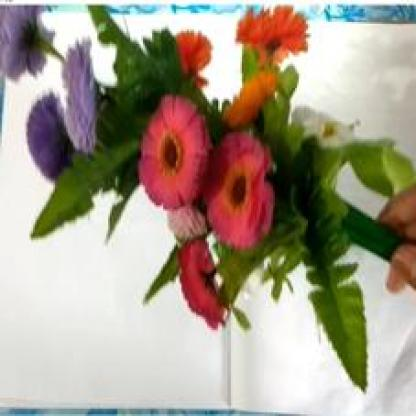flower: (15, 7, 414, 361)
